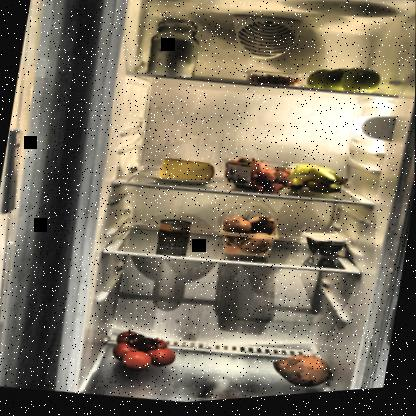apple: (301, 61, 384, 103)
banana: (285, 162, 349, 205)
cheese: (154, 154, 218, 193)
corn: (154, 216, 194, 252)
onion: (216, 212, 279, 264)
shrimp: (245, 70, 307, 97)
strawberries: (220, 155, 297, 202)
sweet_potato: (265, 345, 344, 399)
tomato: (107, 324, 183, 383)
